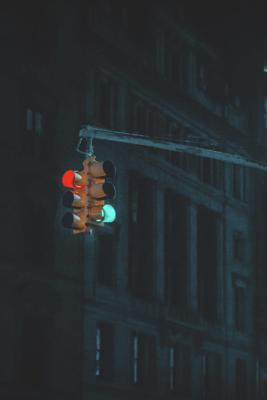International Road Signal Light: (60, 153, 119, 237)
